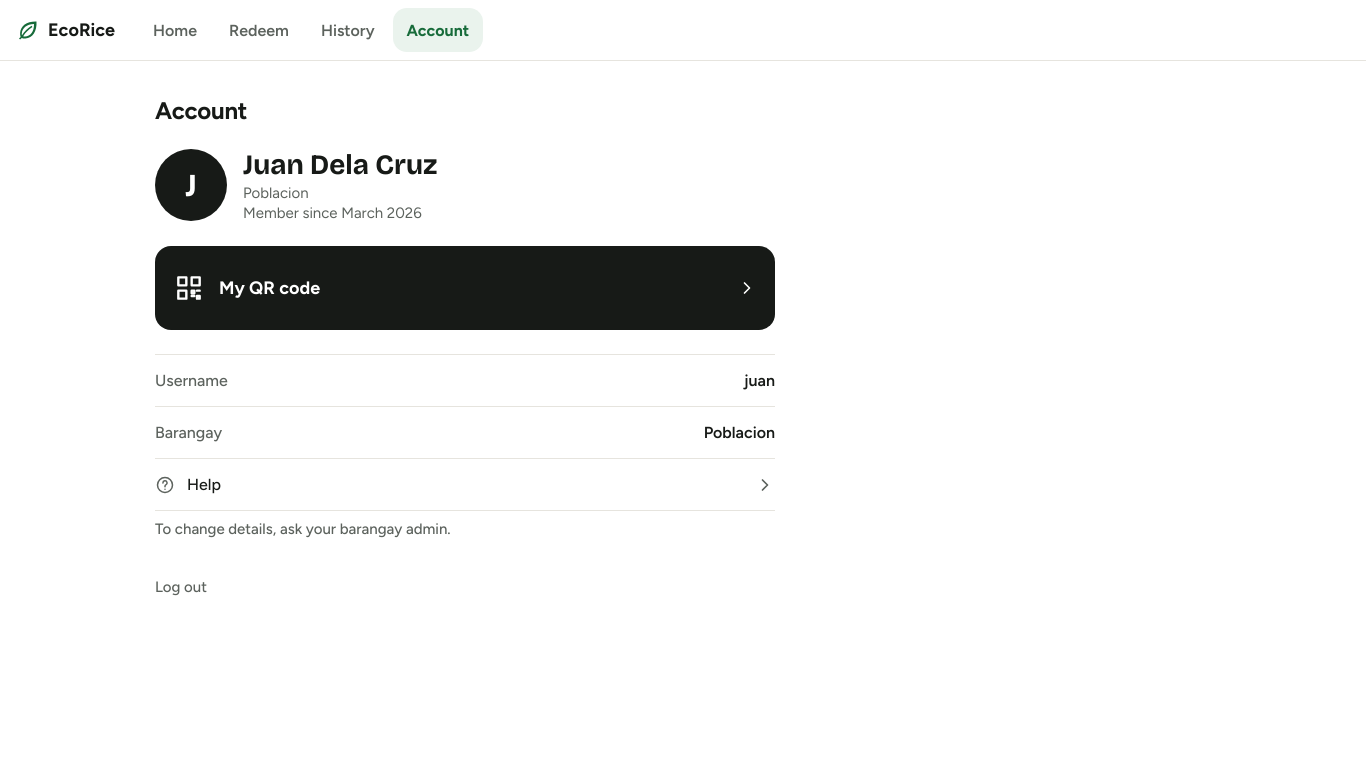
Test: shows an error when logging out fails
The image size is (1366, 768).
What coordinates should you click on to do the following:
click the button "Log out"
I would click on:
 (181, 587)
Its box is [143,565,219,609].
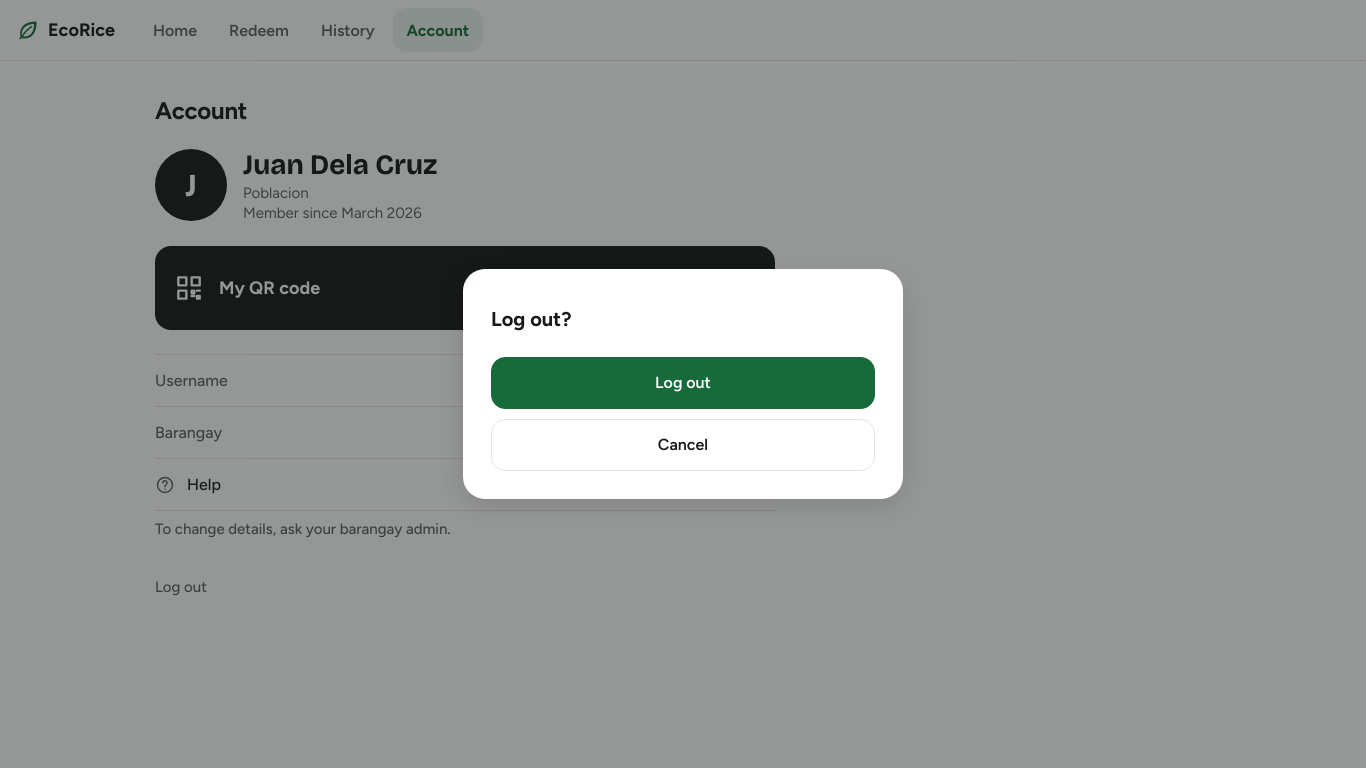
What coordinates should you click on to do the following:
click the button "Log out" below "Log out?"
I would click on:
 (683, 383)
Its box is [491,357,875,409].
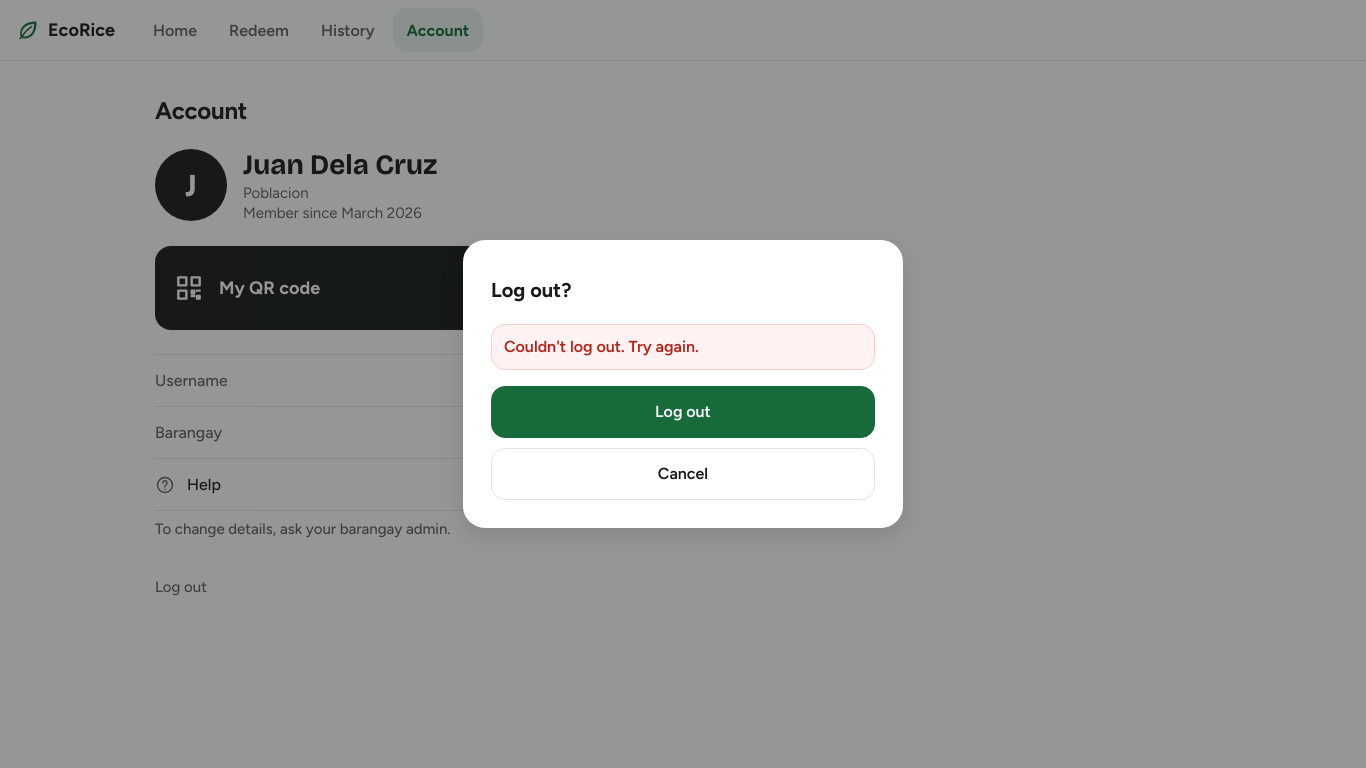
Expected: the message reads "Couldn't log out. Try again.", [504,337,699,356]
